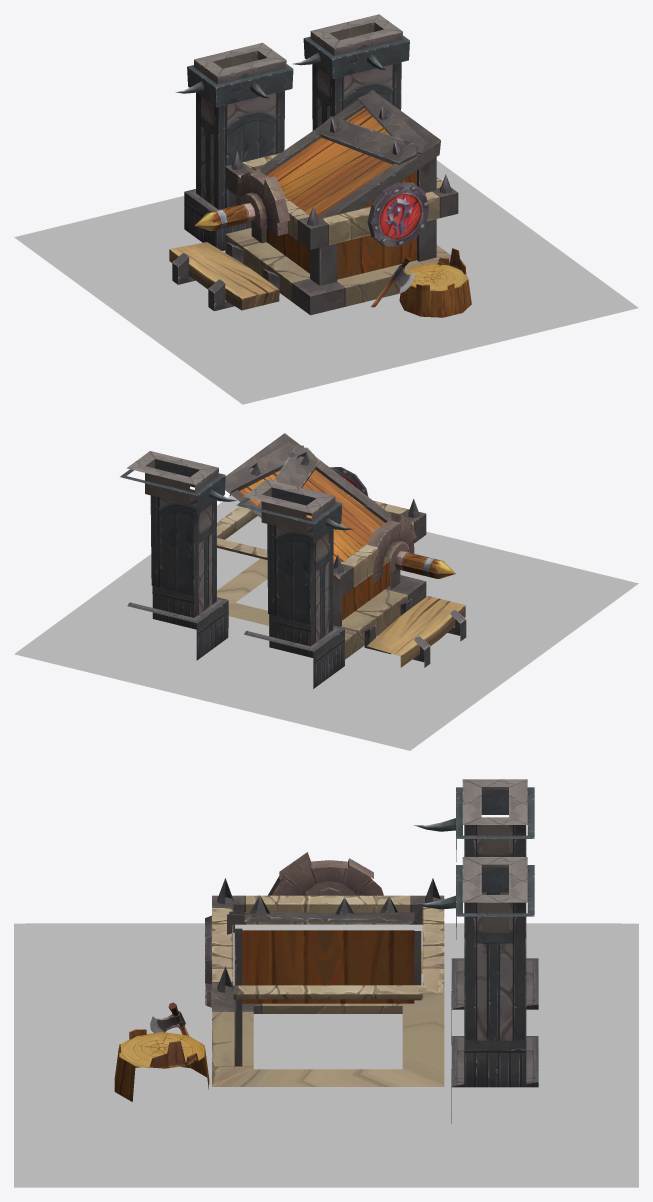
Rendered from The main city_023_LV10.FBX.
3 views of the same model, one above another, from view 1: azimuth 30°, elevation 25°; view 2: azimuth 150°, elevation 25°; view 3: azimuth 270°, elevation 25° (orthographic). The views are drawn at different scales.
Parts seen in each view (by area): view 1: The main city_023_LV10; view 2: The main city_023_LV10; view 3: The main city_023_LV10.
Part boxes in pixels (x1,y1,x2,y2): The main city_023_LV10: (14, 14, 638, 404); The main city_023_LV10: (14, 433, 638, 750); The main city_023_LV10: (14, 779, 638, 1187).
Size of the model in its own units: 59.9 by 25.25 by 59.9.
